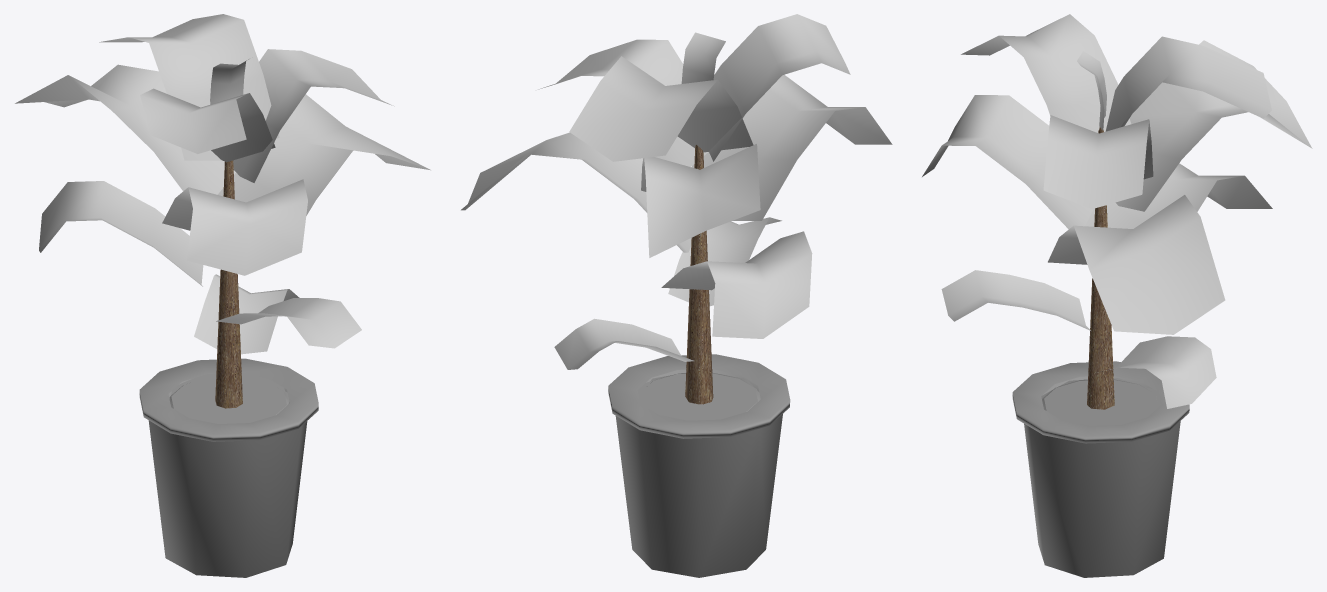
Rendered from Petra_leaf_lod1.fbx.
The picture shows the model from 3 angles, left to right: view 1: azimuth 30°, elevation 25°; view 2: azimuth 150°, elevation 25°; view 3: azimuth 270°, elevation 25°; orthographic projection. The views are drawn at different scales.
Parts seen in each view (by area): view 1: Petra_leaf_lod1; view 2: Petra_leaf_lod1; view 3: Petra_leaf_lod1.
Boxes of the visible parts, bbox=[...] form: Petra_leaf_lod1: bbox=[15, 14, 430, 577]; Petra_leaf_lod1: bbox=[461, 14, 892, 577]; Petra_leaf_lod1: bbox=[922, 14, 1312, 577].
Bounding box in the file's own units: 43.63 × 59.02 × 41.86.
Materials: 3 (1 with a texture image).
